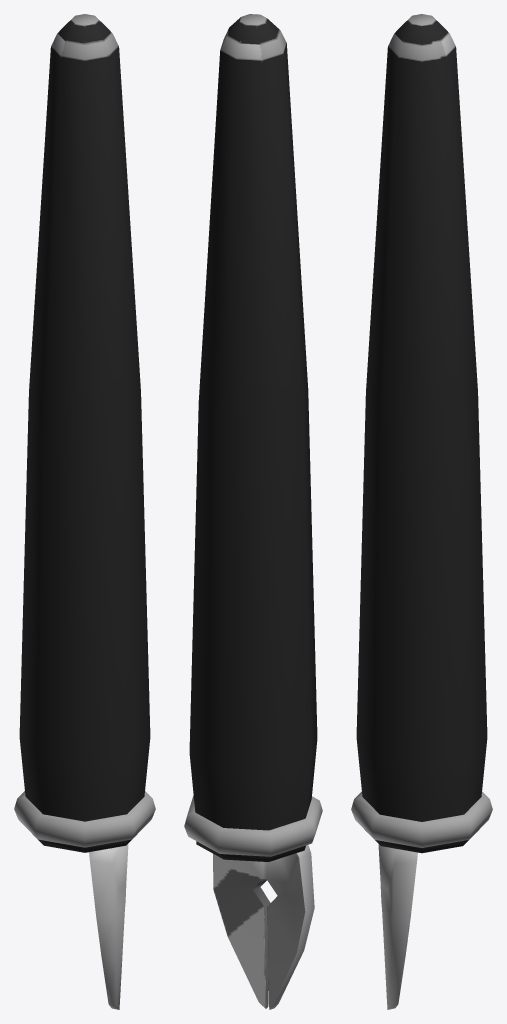
File: Pen.fbx
3 views of the same model, side by side, from view 1: azimuth 90°, elevation 25°; view 2: azimuth 150°, elevation 25°; view 3: azimuth 270°, elevation 25° (orthographic).
Parts seen in each view (by area): view 1: 柱体; view 2: 柱体; view 3: 柱体.
Part boxes in pixels (x1=…): 柱体: x1=14, y1=14, x2=155, y2=1009; 柱体: x1=184, y1=14, x2=322, y2=1009; 柱体: x1=351, y1=14, x2=492, y2=1009.
Size of the model in its own units: 4.55 by 35.01 by 4.55.
Materials: 1 (1 with a texture image).
